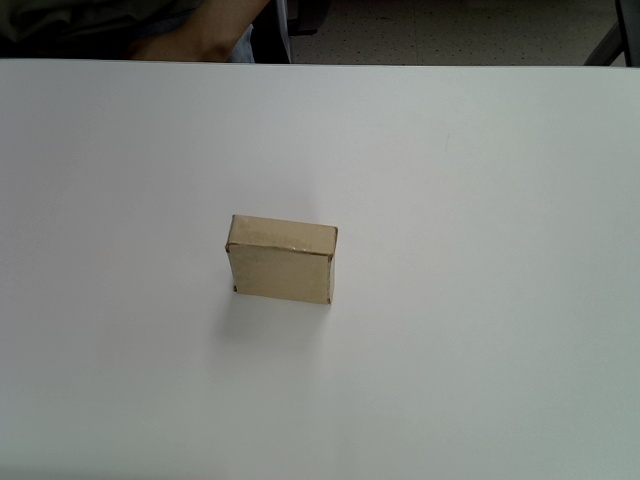normal: (225, 215, 341, 306)
